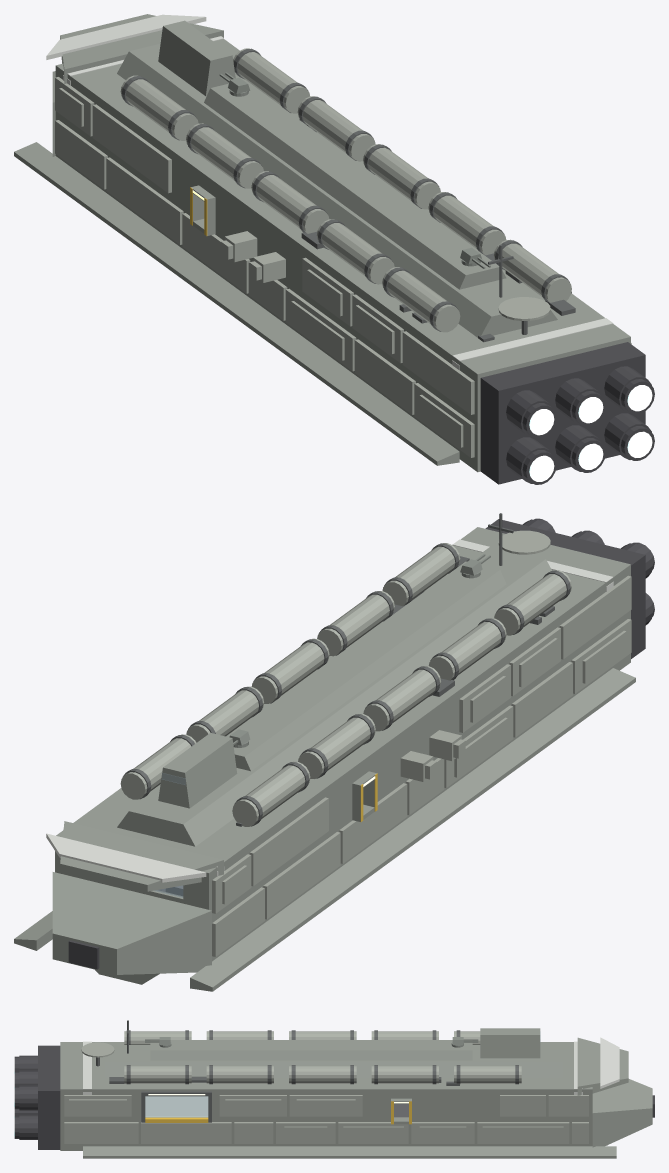
File: ship_SMALL_SUPPORT_v2.glb
3 renders of one model, top to bottom at view 1: azimuth 30°, elevation 25°; view 2: azimuth 150°, elevation 25°; view 3: azimuth 270°, elevation 25°, orthographic. The views are drawn at different scales.
Parts seen in each view (by area): view 1: SMALL_SUPPORT_Hull-col, SMALL_SUPPORT_Armor, SMALL_SUPPORT_Engines, SMALL_SUPPORT_Trim, SMALL_SUPPORT_Accent, SMALL_SUPPORT_EngineGlow, SMALL_SUPPORT_Details, SMALL_SUPPORT_EscapePod_1, SMALL_SUPPORT_EscapePod_2; view 2: SMALL_SUPPORT_Hull-col, SMALL_SUPPORT_Armor, SMALL_SUPPORT_Engines, SMALL_SUPPORT_Trim, SMALL_SUPPORT_Accent, SMALL_SUPPORT_EscapePod_2, SMALL_SUPPORT_EscapePod_1, SMALL_SUPPORT_Details; view 3: SMALL_SUPPORT_Hull-col, SMALL_SUPPORT_Armor, SMALL_SUPPORT_Engines, SMALL_SUPPORT_Trim, SMALL_SUPPORT_Accent, SMALL_SUPPORT_CargoBayShield, SMALL_SUPPORT_CargoBayDoor-col, SMALL_SUPPORT_Hazard, SMALL_SUPPORT_Details.
Part boxes in pixels (left/top/right/bottom): SMALL_SUPPORT_Hull-col: left=14, top=14, right=630, bottom=472; SMALL_SUPPORT_Armor: left=55, top=48, right=631, bottom=457; SMALL_SUPPORT_Engines: left=480, top=342, right=654, bottom=484; SMALL_SUPPORT_Trim: left=121, top=48, right=571, bottom=334; SMALL_SUPPORT_Accent: left=46, top=14, right=613, bottom=370; SMALL_SUPPORT_EngineGlow: left=529, top=385, right=652, bottom=481; SMALL_SUPPORT_Details: left=299, top=119, right=575, bottom=342; SMALL_SUPPORT_EscapePod_1: left=249, top=252, right=285, bottom=282; SMALL_SUPPORT_EscapePod_2: left=221, top=231, right=257, bottom=261; SMALL_SUPPORT_Hull-col: left=14, top=527, right=635, bottom=991; SMALL_SUPPORT_Armor: left=55, top=530, right=631, bottom=956; SMALL_SUPPORT_Engines: left=68, top=518, right=654, bottom=969; SMALL_SUPPORT_Trim: left=123, top=543, right=570, bottom=826; SMALL_SUPPORT_Accent: left=46, top=539, right=613, bottom=882; SMALL_SUPPORT_EscapePod_2: left=400, top=751, right=436, bottom=781; SMALL_SUPPORT_EscapePod_1: left=429, top=730, right=465, bottom=760; SMALL_SUPPORT_Details: left=236, top=513, right=554, bottom=826; SMALL_SUPPORT_Hull-col: left=60, top=1028, right=652, bottom=1158; SMALL_SUPPORT_Armor: left=64, top=1031, right=588, bottom=1143; SMALL_SUPPORT_Engines: left=14, top=1045, right=654, bottom=1149; SMALL_SUPPORT_Trim: left=96, top=1030, right=518, bottom=1122; SMALL_SUPPORT_Accent: left=83, top=1037, right=619, bottom=1094; SMALL_SUPPORT_CargoBayShield: left=145, top=1096, right=208, bottom=1116; SMALL_SUPPORT_CargoBayDoor-col: left=145, top=1096, right=208, bottom=1116; SMALL_SUPPORT_Hazard: left=145, top=1101, right=411, bottom=1124; SMALL_SUPPORT_Details: left=109, top=1020, right=459, bottom=1085.
Bounding box in the file's own units: 19.8 × 17.4 × 85.5.
